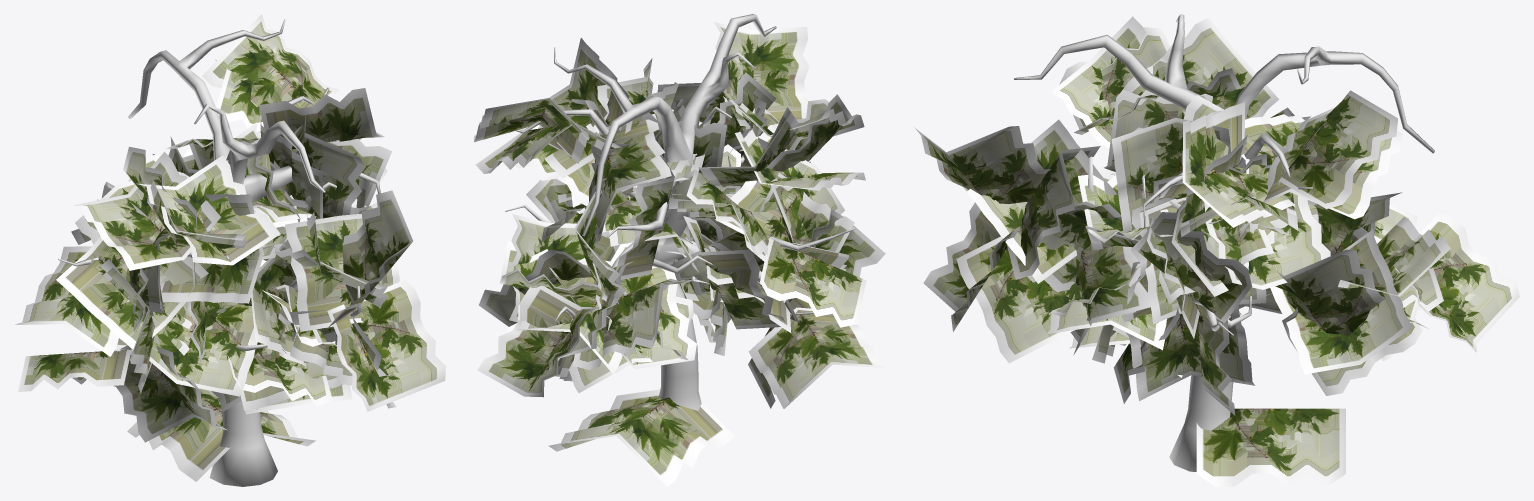
Rendered from Tree_2_HALF.fbx.
3 renders of one model, left to right at view 1: azimuth 30°, elevation 25°; view 2: azimuth 150°, elevation 25°; view 3: azimuth 270°, elevation 25°, orthographic. The views are drawn at different scales.
Parts seen in each view (by area): view 1: Stronk, Stronk|Blaadjes|Dupli|55, Stronk|Blaadjes|Dupli|45, Stronk|Blaadjes|Dupli|30, Stronk|Blaadjes|Dupli|2, Stronk|Blaadjes|Dupli|13, Stronk|Blaadjes|Dupli|64, Stronk|Blaadjes|Dupli|54, Stronk|Blaadjes|Dupli|33, Stronk|Blaadjes|Dupli|52, Blaadjes, Stronk|Blaadjes|Dupli|16 (+27 smaller); view 2: Stronk, Blaadjes, Stronk|Blaadjes|Dupli|31, Stronk|Blaadjes|Dupli|46, Stronk|Blaadjes|Dupli|52, Stronk|Blaadjes|Dupli|5, Stronk|Blaadjes|Dupli|17, Stronk|Blaadjes|Dupli|4, Stronk|Blaadjes|Dupli|49, Stronk|Blaadjes|Dupli|43, Stronk|Blaadjes|Dupli|16, Stronk|Blaadjes|Dupli|36 (+35 smaller); view 3: Stronk, Blaadjes, Stronk|Blaadjes|Dupli|2, Stronk|Blaadjes|Dupli|46, Stronk|Blaadjes|Dupli|53, Stronk|Blaadjes|Dupli|15, Stronk|Blaadjes|Dupli|16, Stronk|Blaadjes|Dupli|52, Stronk|Blaadjes|Dupli|26, Stronk|Blaadjes|Dupli|25, Stronk|Blaadjes|Dupli|22, Stronk|Blaadjes|Dupli|56 (+29 smaller).
Part boxes in pixels (x1,y1,x2,y2): Stronk: (58, 19, 380, 486); Stronk|Blaadjes|Dupli|55: (327, 280, 445, 411); Stronk|Blaadjes|Dupli|45: (136, 155, 280, 265); Stronk|Blaadjes|Dupli|30: (149, 302, 257, 396); Stronk|Blaadjes|Dupli|2: (202, 14, 339, 108); Stronk|Blaadjes|Dupli|13: (74, 151, 220, 270); Stronk|Blaadjes|Dupli|64: (56, 202, 208, 349); Stronk|Blaadjes|Dupli|54: (285, 213, 399, 331); Stronk|Blaadjes|Dupli|33: (113, 345, 227, 442); Stronk|Blaadjes|Dupli|52: (328, 190, 413, 327); Blaadjes: (127, 388, 315, 481); Stronk|Blaadjes|Dupli|16: (259, 88, 384, 149); Stronk: (505, 14, 855, 410); Blaadjes: (548, 389, 734, 486); Stronk|Blaadjes|Dupli|31: (748, 307, 883, 408); Stronk|Blaadjes|Dupli|46: (477, 286, 599, 397); Stronk|Blaadjes|Dupli|52: (714, 22, 809, 121); Stronk|Blaadjes|Dupli|5: (760, 238, 866, 327); Stronk|Blaadjes|Dupli|17: (584, 113, 671, 242); Stronk|Blaadjes|Dupli|4: (715, 150, 844, 244); Stronk|Blaadjes|Dupli|49: (573, 278, 696, 369); Stronk|Blaadjes|Dupli|43: (683, 216, 784, 329); Stronk|Blaadjes|Dupli|16: (521, 38, 629, 178); Stronk|Blaadjes|Dupli|36: (592, 263, 696, 369); Stronk: (1014, 14, 1442, 471); Blaadjes: (1196, 408, 1345, 486); Stronk|Blaadjes|Dupli|2: (1278, 90, 1397, 208); Stronk|Blaadjes|Dupli|46: (1395, 213, 1519, 352); Stronk|Blaadjes|Dupli|53: (956, 236, 1074, 363); Stronk|Blaadjes|Dupli|15: (1270, 229, 1412, 374); Stronk|Blaadjes|Dupli|16: (1182, 102, 1295, 227); Stronk|Blaadjes|Dupli|52: (914, 126, 1050, 203); Stronk|Blaadjes|Dupli|26: (1275, 249, 1386, 335); Stronk|Blaadjes|Dupli|25: (1122, 304, 1255, 401); Stronk|Blaadjes|Dupli|22: (1111, 117, 1233, 236); Stronk|Blaadjes|Dupli|56: (966, 119, 1117, 283).
Bounding box in the file's own units: 447 × 451 × 573.
Materials: 2 (1 with a texture image).
